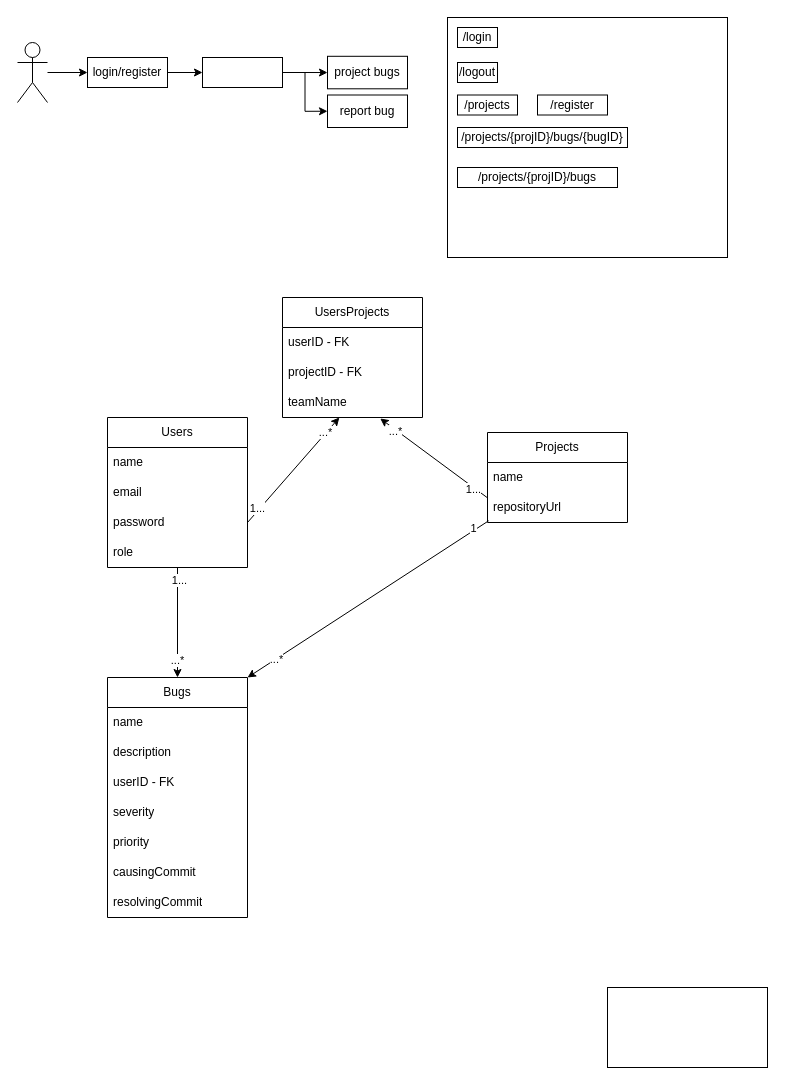
Image size: 785x1085. Some labels were removed from this diagram. Each missing label, with the centre of its shape:
mongo/mongoose express/node react/angular/vanilla+Jquery: point 687,1027
projects overview: point 242,72
user: point 32,72
